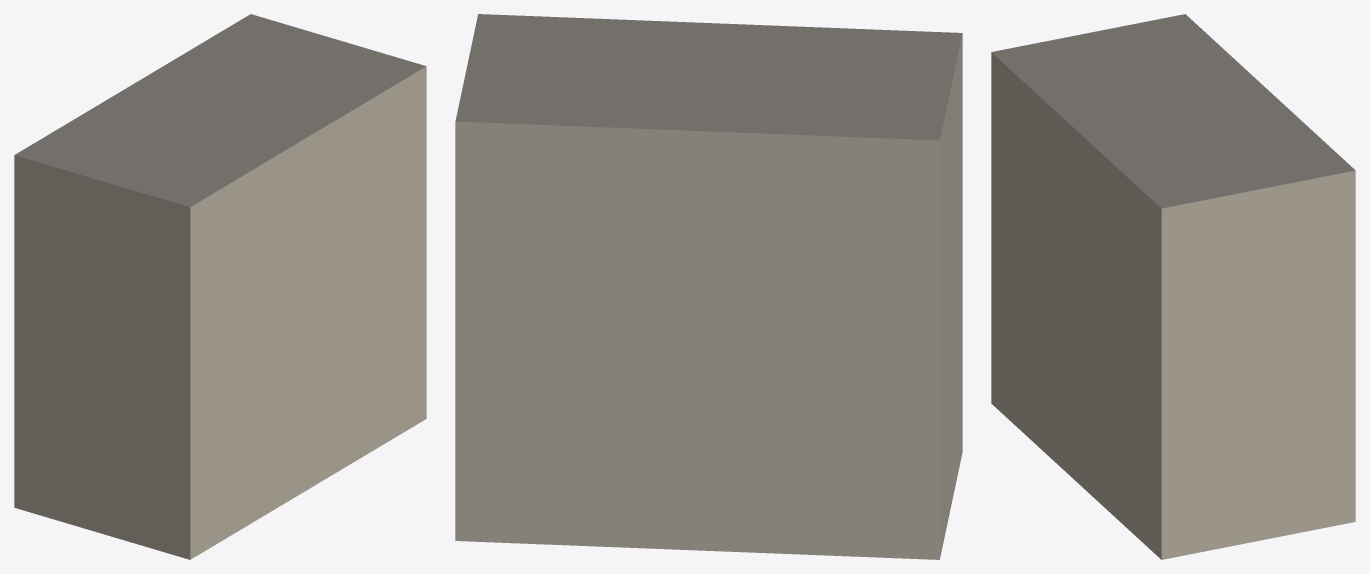
3 views of the same model, side by side, from view 1: azimuth 30°, elevation 25°; view 2: azimuth 150°, elevation 25°; view 3: azimuth 270°, elevation 25° (orthographic). The views are drawn at different scales.
Parts seen in each view (by area): view 1: HP-w414733152; view 2: HP-w414733152; view 3: HP-w414733152.
Part boxes in pixels (x1,y1,x2,y2): HP-w414733152: (14, 14, 426, 559); HP-w414733152: (455, 14, 962, 559); HP-w414733152: (991, 14, 1355, 559).
Size of the model in its own units: 21.37 by 18 by 16.92.
